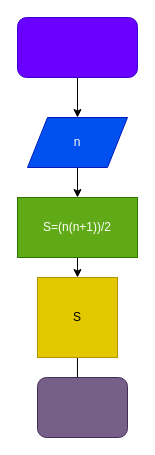
Some shapes in this 155 by 455 pixel diagram are drawn without their labels. Here are the shapes that lost their labels. From the top down, the box of each, then its label:
(16, 16, 138, 78): INICIO
(36, 376, 128, 438): Fin
